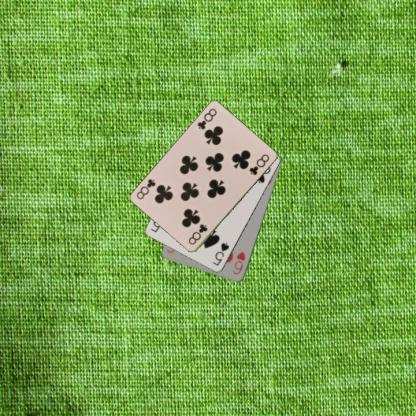5s: (210, 240, 230, 267)
6h: (230, 249, 247, 276)
8c: (195, 106, 218, 131), (186, 222, 208, 246)
